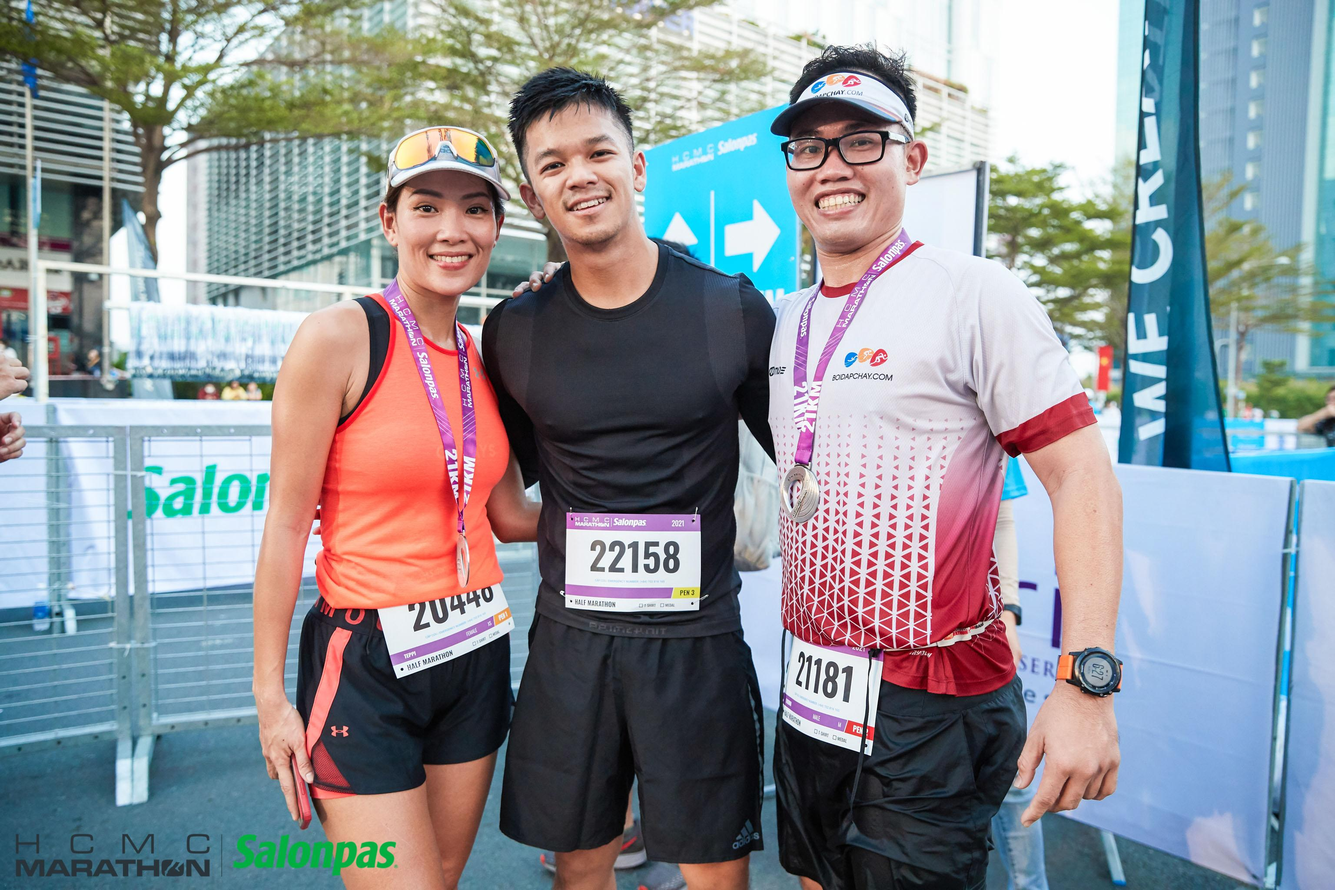bib: (565, 509, 704, 617), (380, 574, 515, 680), (778, 635, 880, 758)
